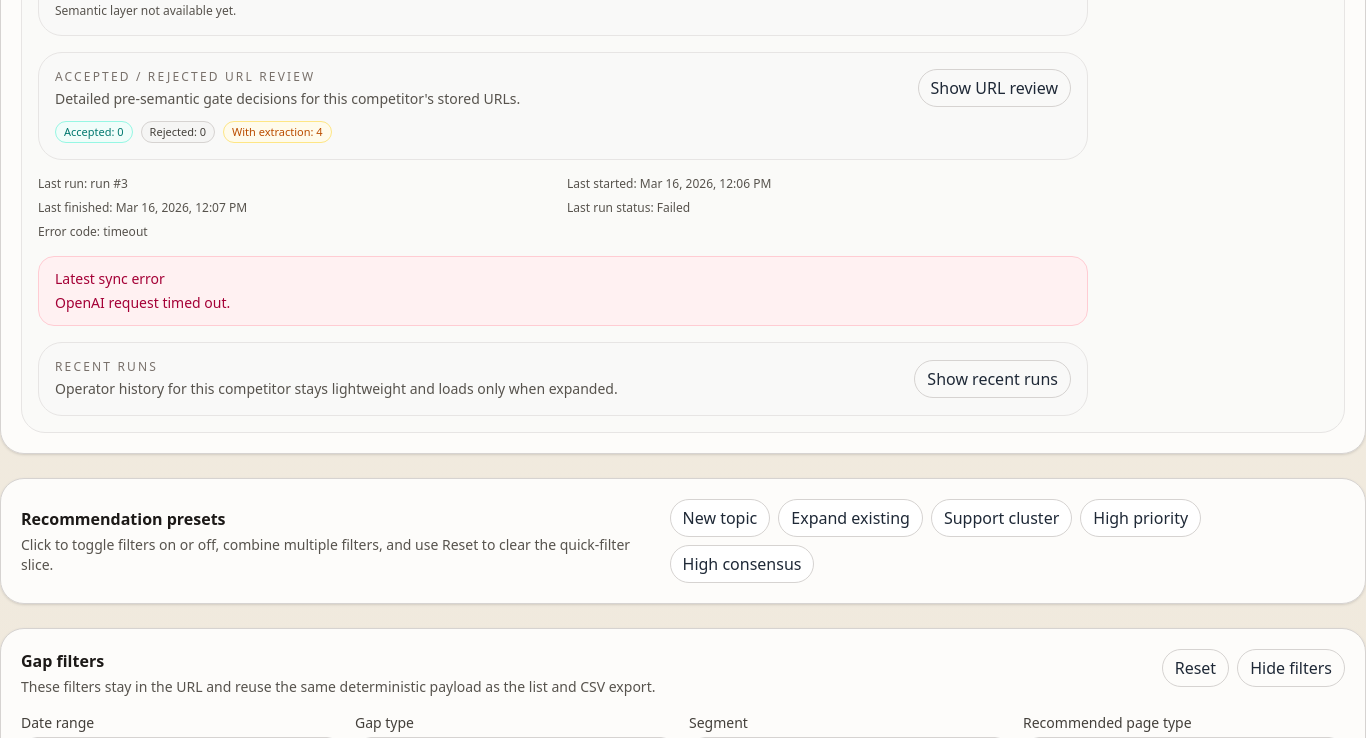
Test: SiteCompetitiveGapPage › shows recent runs and lets the operator retry a failed run
The width and height of the screenshot is (1366, 738).
(page scrolled)
Click the button "Show recent runs" at (993, 379), box [914, 360, 1071, 398]
(page scrolled)
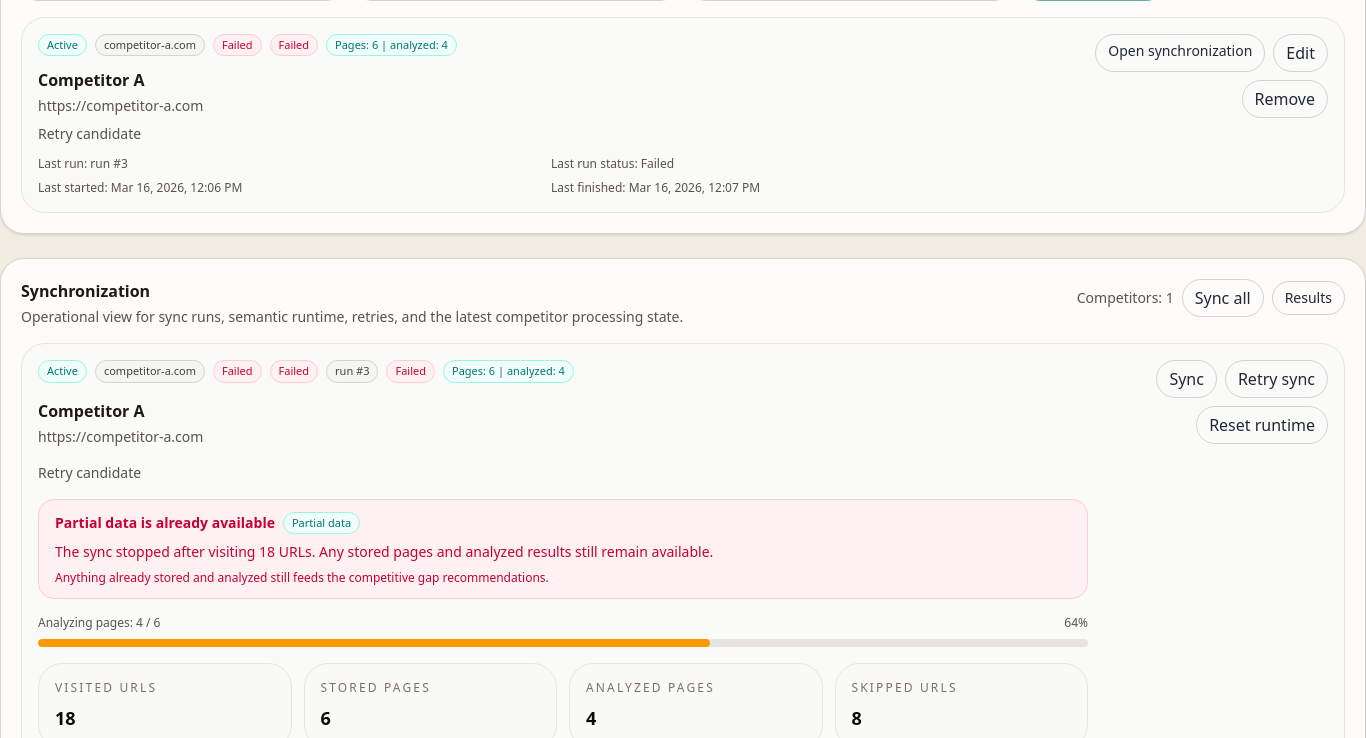
Click the button "Retry sync" at (1276, 379), box [1225, 360, 1328, 398]
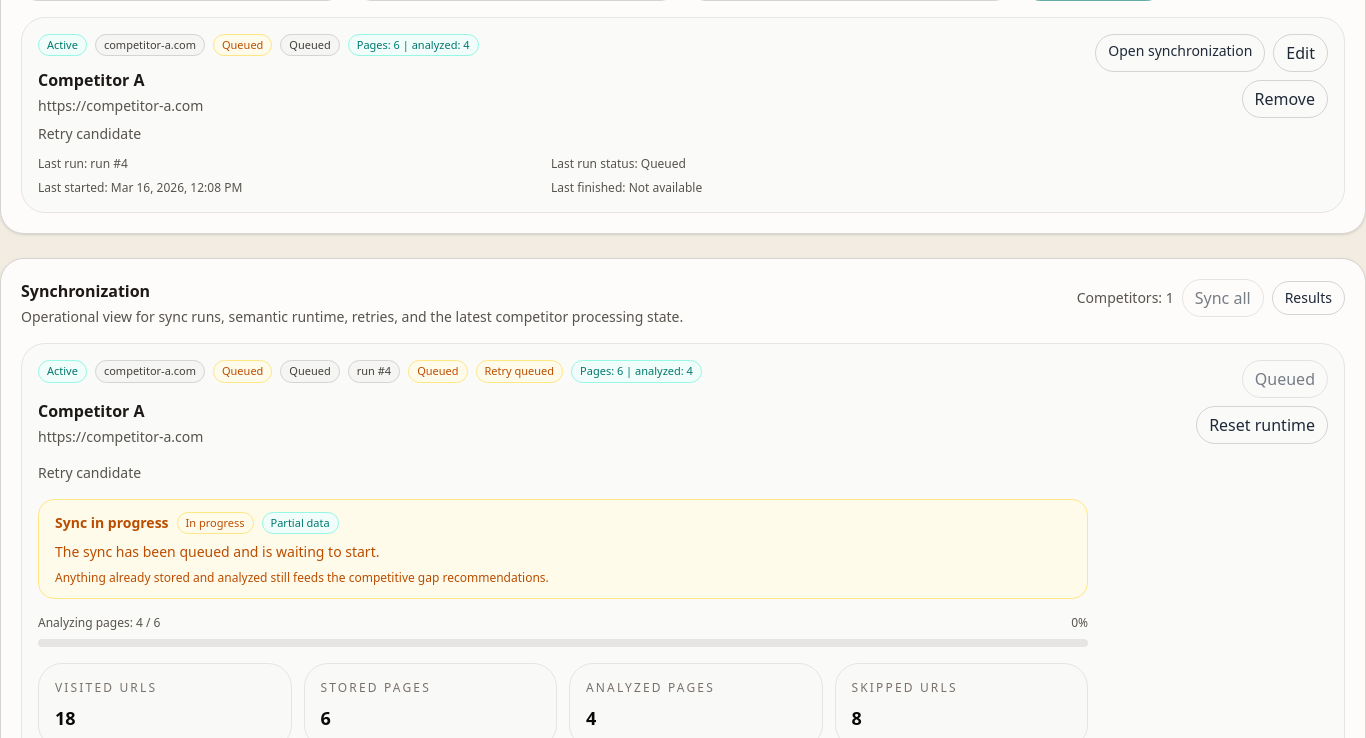
expect the text "Retry queued" is shown: met, box [476, 360, 563, 382]
expect the text "Last run: run #4" is shown: met, box [38, 155, 128, 172]
